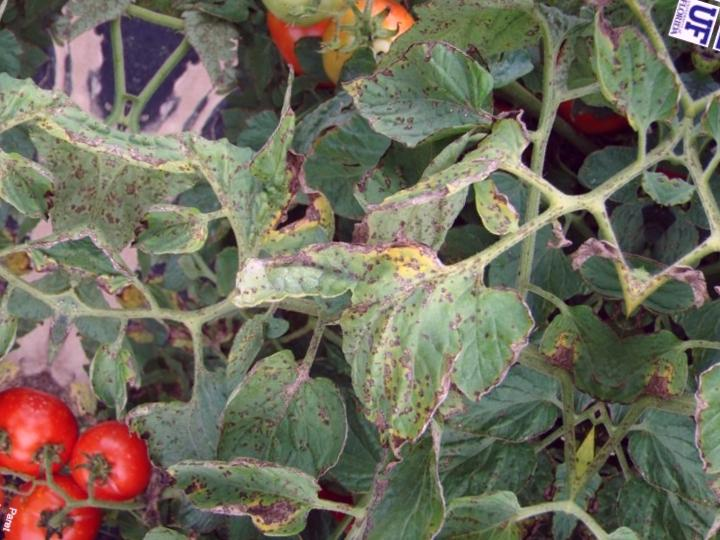Tomato leaf bacterial spot: (216, 167, 564, 465), (196, 322, 376, 520), (103, 94, 320, 258), (319, 16, 524, 180), (148, 415, 338, 540), (323, 406, 473, 540), (122, 183, 216, 269)
